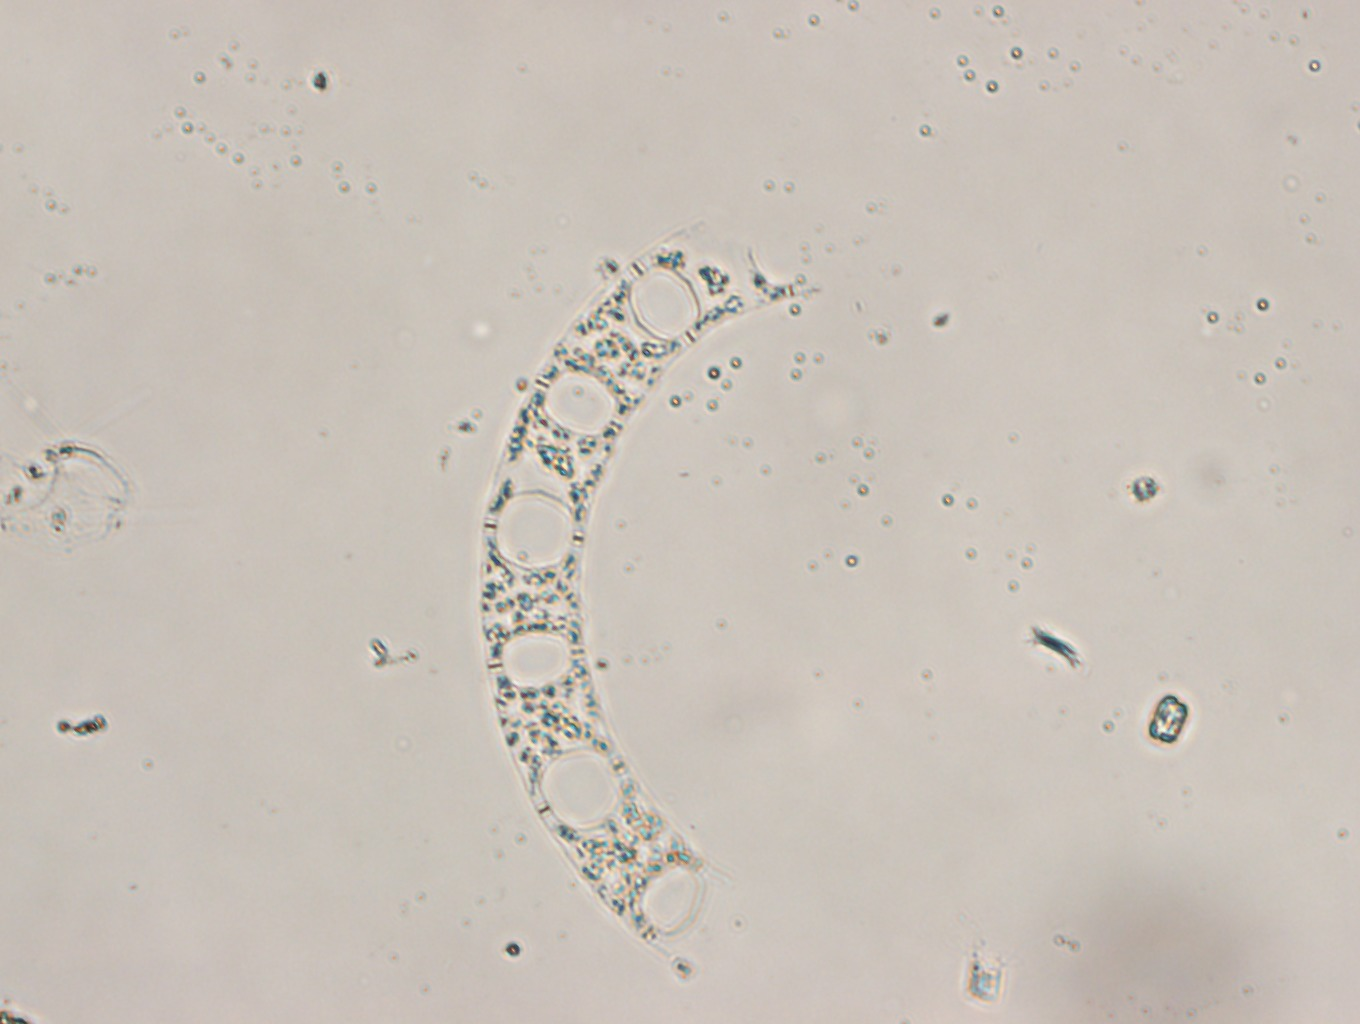eucampia: (477, 217, 758, 975)
